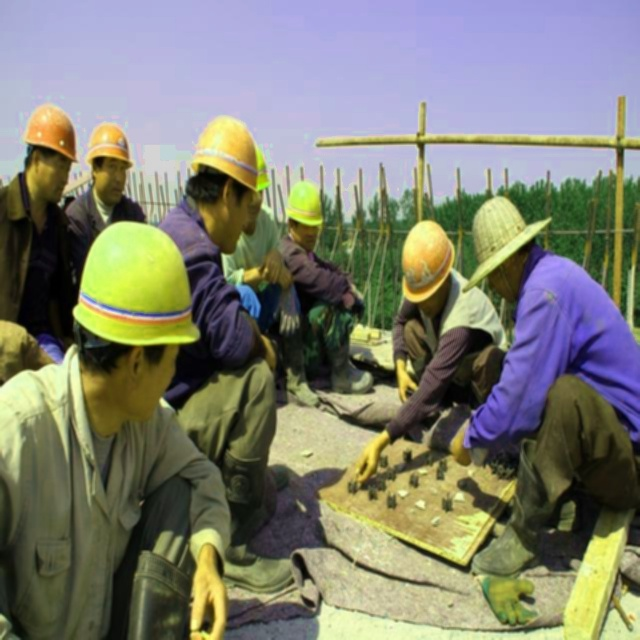Con_Casco: (22, 104, 79, 197), (400, 222, 454, 313), (87, 124, 132, 199), (284, 178, 323, 242)
Sin_Casco_Mascarrilla: (463, 193, 548, 308)
